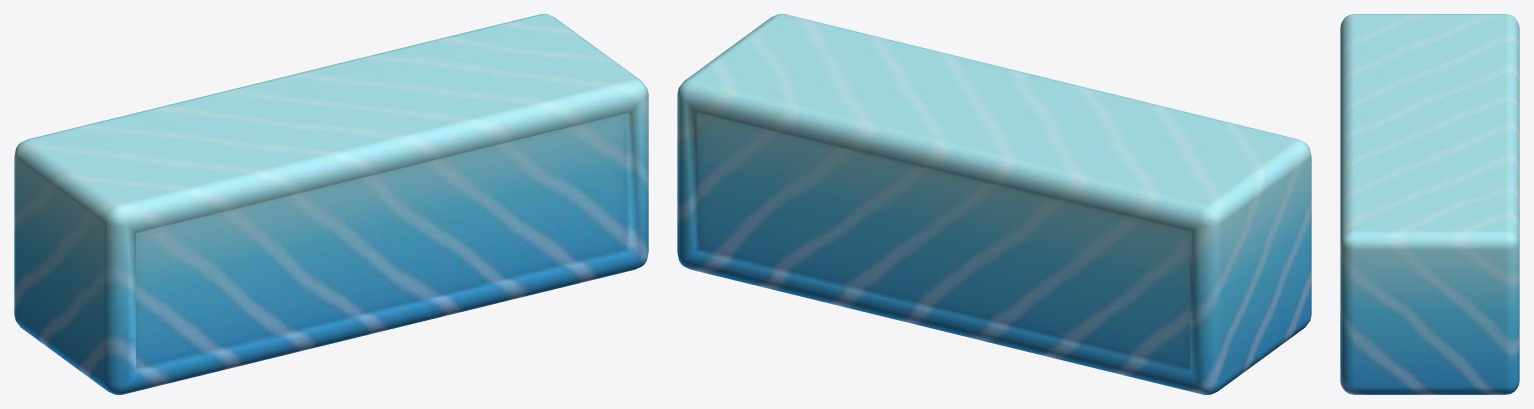
The model's file is buz3.glb.
3 renders of one model, left to right at view 1: azimuth 30°, elevation 25°; view 2: azimuth 150°, elevation 25°; view 3: azimuth 270°, elevation 25°, orthographic. The views are drawn at different scales.
Parts seen in each view (by area): view 1: blok; view 2: blok; view 3: blok.
Boxes of the visible parts, x1,y1,x2,y2 form: blok: (14,14,648,394); blok: (677,14,1311,394); blok: (1340,14,1519,394).
Size of the model in its own units: 3 by 1 by 1.
Materials: 1 (1 with a texture image).
